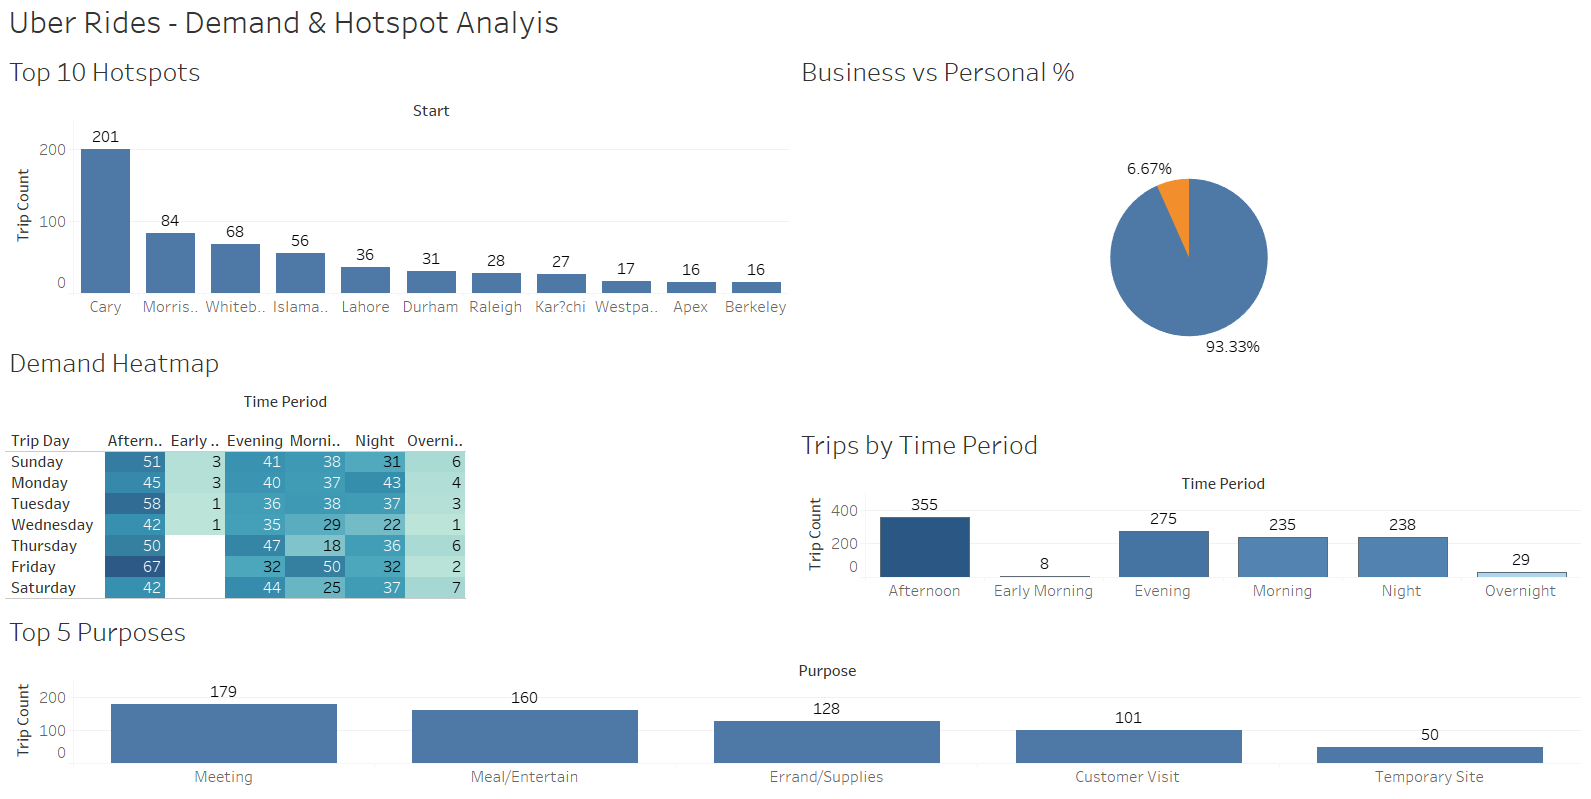

Layout of this report page (visuals, bound fields, positions):
{"tool":"tableau","page":{"name":"Uber Rides - Demand & Hotspot Analyis","canvas":[1000,1000],"units":"permille","ordinal":1},"visuals":[{"type":"title","box":[5,9.8,990,61.6]},{"type":"worksheet","title":"Top 10 Hotspots","mark":"Automatic","rows":["Calculation_547468837448732672"],"cols":["START"],"box":[5,71.4,495,358.4]},{"type":"worksheet","title":"Business vs Personal %","mark":"Pie","box":[500,71.4,495,459.4]},{"type":"worksheet","title":"Demand Heatmap","mark":"Automatic","rows":["Trip_Day"],"cols":["Time_Period"],"box":[5,429.8,495,330.7]},{"type":"worksheet","title":"Trips by Time Period","mark":"Automatic","rows":["Calculation_547468837448732672"],"cols":["Time_Period"],"box":[500,530.8,495,229.7]},{"type":"worksheet","title":"Top 5 Purposes","mark":"Automatic","rows":["Calculation_547468837448732672"],"cols":["PURPOSE"],"box":[5,760.5,990,229.7]}]}

Visuals, with their boxes on the dashboard's canvas, which has no fixed pixel size, in thousandths of its width and height (x1, y1, x2, y2). These are canvas units, not pixel positions in the 1591x799 screenshot, which may show the page scaled, cropped or inside an application window:
title: x1=5 y1=10 x2=995 y2=71
"Top 10 Hotspots" worksheet: x1=5 y1=71 x2=500 y2=430
"Business vs Personal %" worksheet (Pie marks): x1=500 y1=71 x2=995 y2=531
"Demand Heatmap" worksheet: x1=5 y1=430 x2=500 y2=760
"Trips by Time Period" worksheet: x1=500 y1=531 x2=995 y2=760
"Top 5 Purposes" worksheet: x1=5 y1=760 x2=995 y2=990
